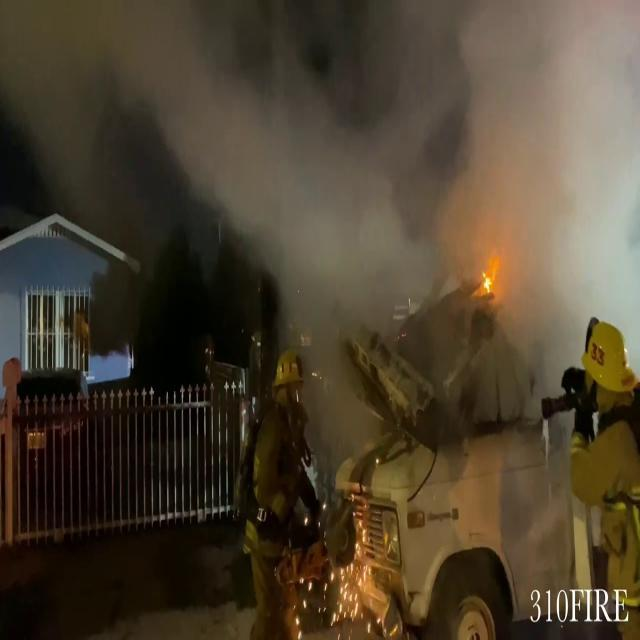Fire: (473, 250, 504, 304)
Smoke: (1, 0, 635, 313)
